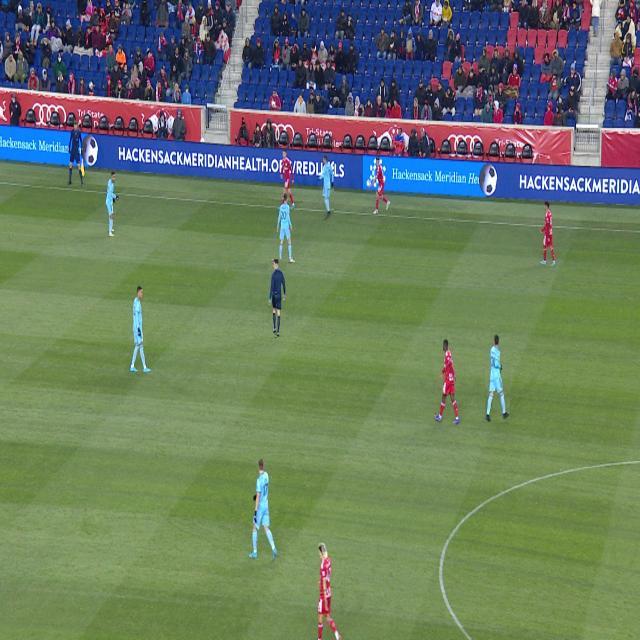player: (249, 458, 277, 561), (317, 542, 342, 640), (485, 334, 510, 422), (434, 339, 459, 425), (130, 286, 151, 373), (276, 193, 295, 263), (318, 156, 334, 219), (540, 201, 555, 267), (106, 171, 119, 237), (281, 149, 295, 210), (278, 205, 281, 210)
referee: (268, 259, 286, 337)
